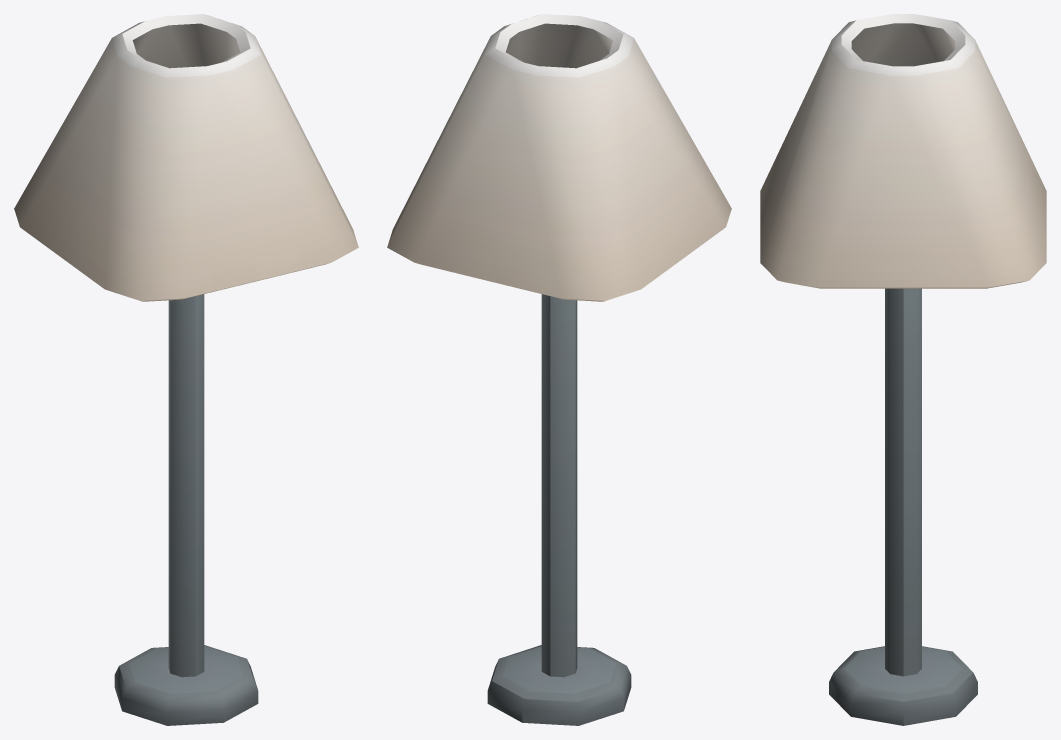
The model's file is floor-lamp.glb.
3 renders of one model, left to right at view 1: azimuth 30°, elevation 25°; view 2: azimuth 150°, elevation 25°; view 3: azimuth 270°, elevation 25°, orthographic.
Visible parts, largest first — view 1: lamp_standing; view 2: lamp_standing; view 3: lamp_standing.
Boxes of the visible parts, x1,y1,x2,y2 form: lamp_standing: [14, 14, 358, 725]; lamp_standing: [387, 14, 731, 725]; lamp_standing: [760, 14, 1046, 725].
Size of the model in its own units: 0.6348 by 1.6 by 0.6348.
Materials: 1 (1 with a texture image).
